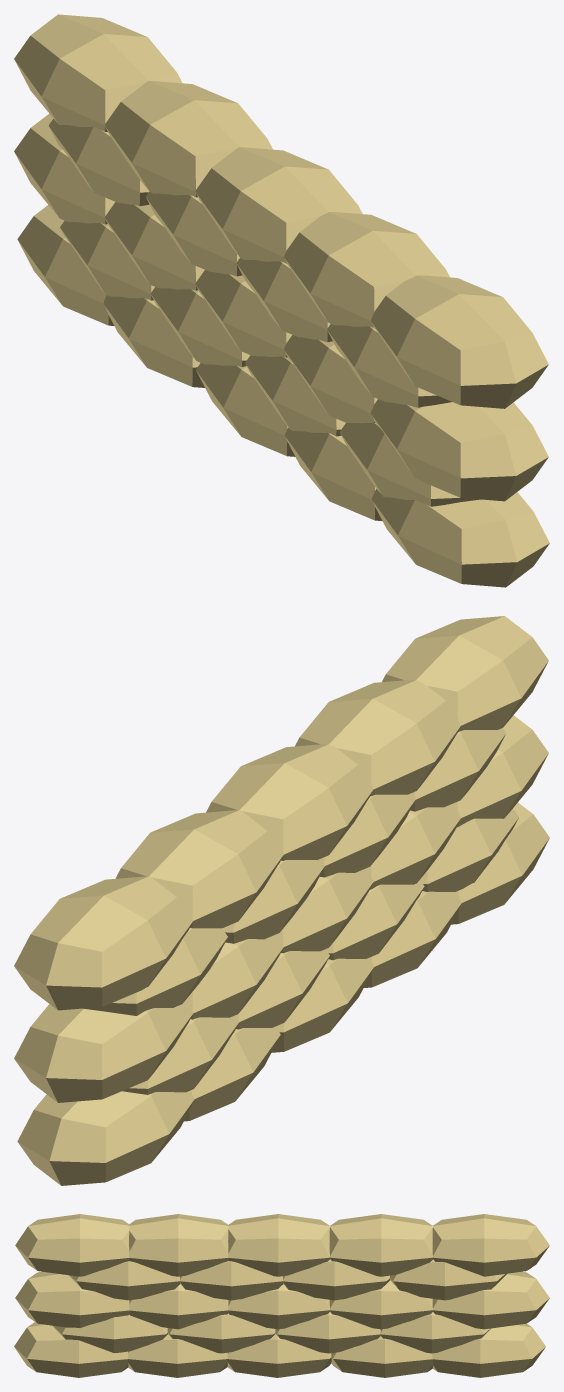
File: Sandbagwall3.fbx
3 renders of one model, top to bottom at view 1: azimuth 30°, elevation 25°; view 2: azimuth 150°, elevation 25°; view 3: azimuth 270°, elevation 25°, orthographic. The views are drawn at different scales.
Visible parts, largest first — view 1: Sandbag; view 2: Sandbag; view 3: Sandbag.
Boxes of the visible parts, box(x1,y1,x2,y2) form: Sandbag: box(14, 14, 549, 587); Sandbag: box(14, 616, 549, 1185); Sandbag: box(14, 1214, 549, 1377).
Size of the model in its own units: 81.74 by 171 by 535.
